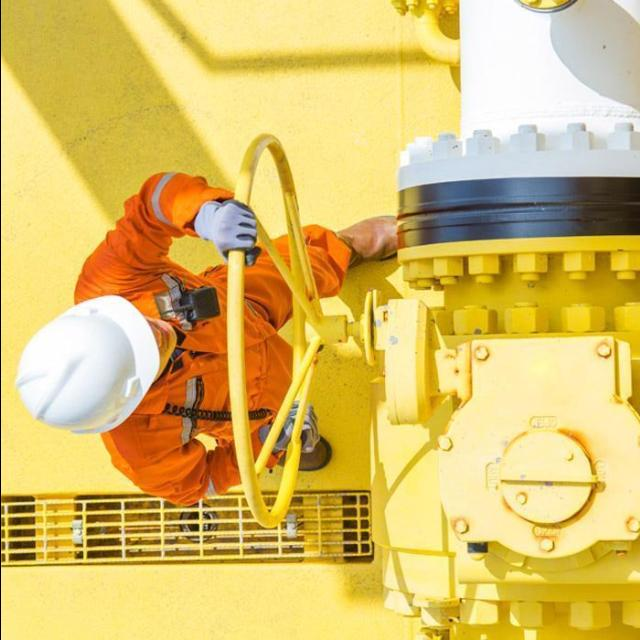helmet: (15, 285, 162, 441)
